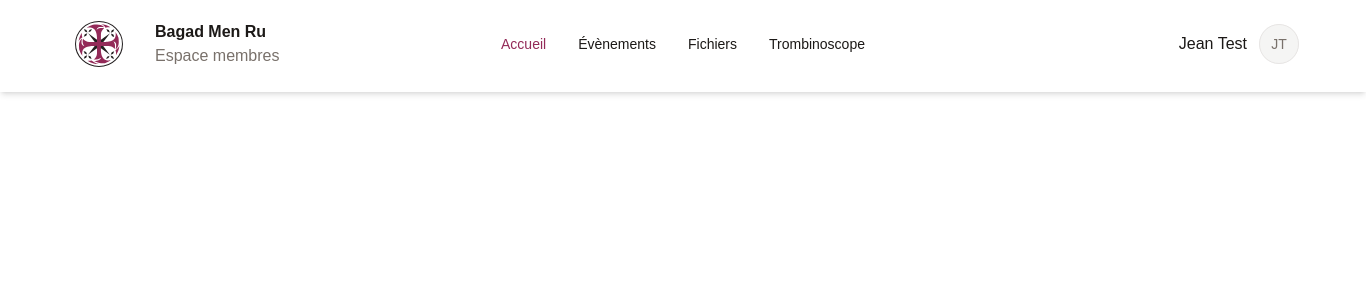
Test: Navbar account menu › hides the Administration entry otherwise
Click the button with aria-label "Comptes - ": (1239, 44) [1171, 16, 1307, 72]
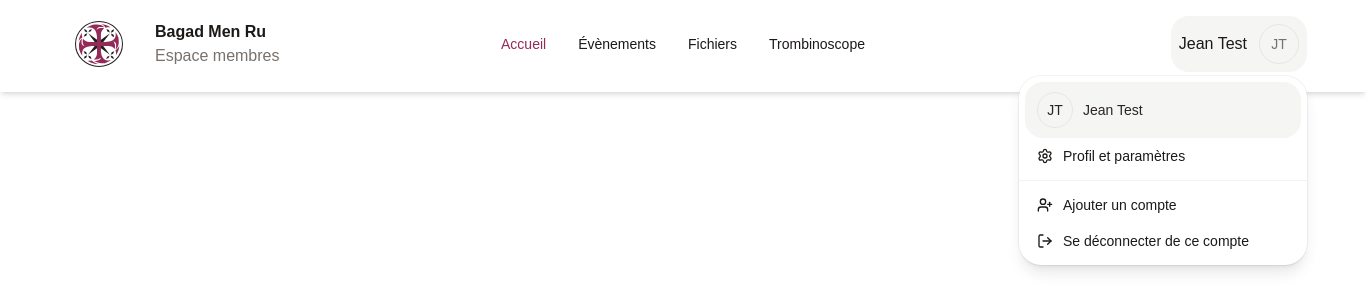
Result: the menu item "Profil et paramètres" is shown at [1037, 148, 1185, 164]
